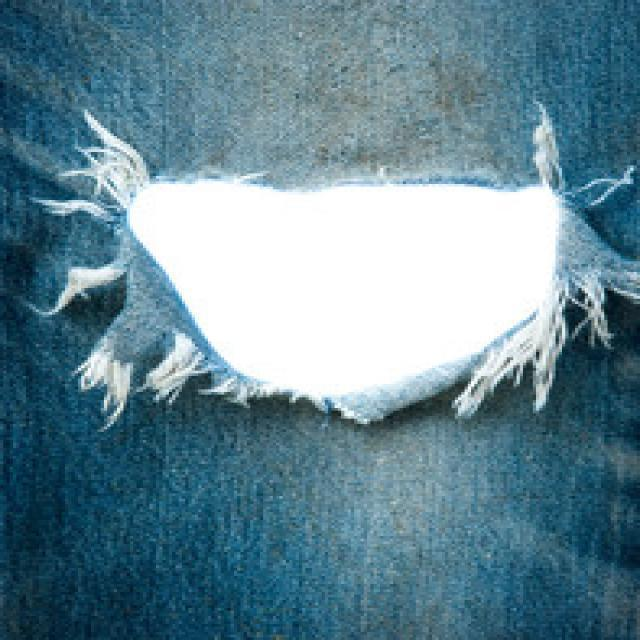Hole: (32, 110, 640, 427)
